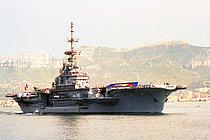MIL_Ship: (5, 20, 188, 115)
